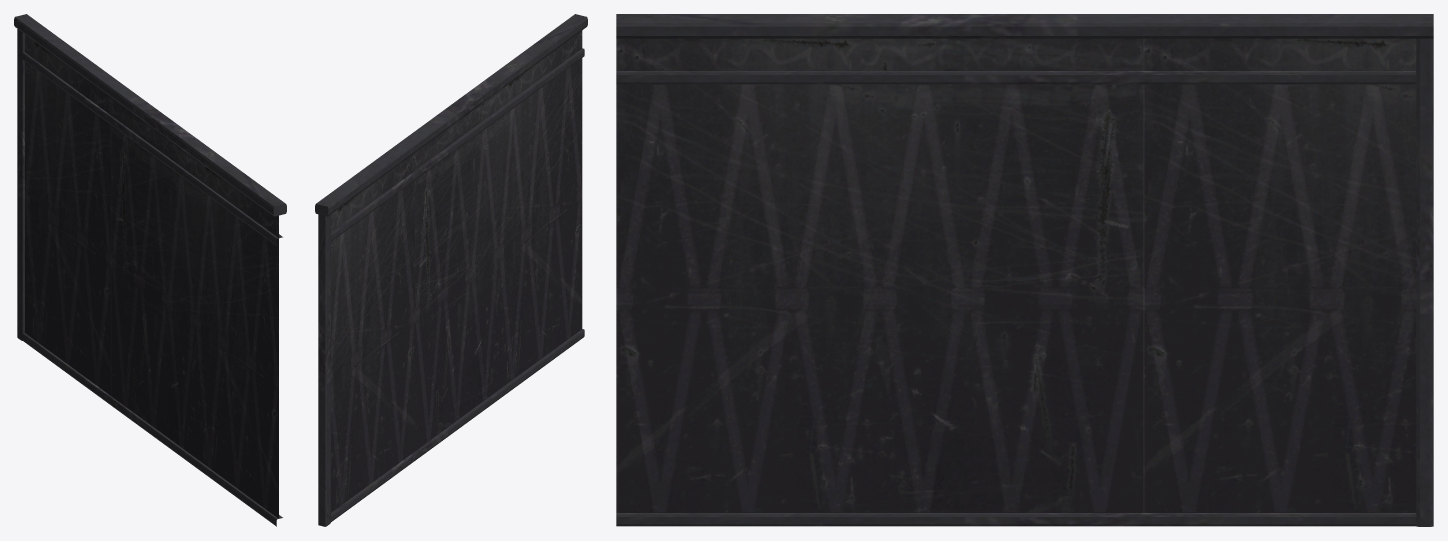
File: railing03_62.glb
The picture shows the model from 3 angles, left to right: view 1: azimuth 30°, elevation 25°; view 2: azimuth 150°, elevation 25°; view 3: azimuth 270°, elevation 25°; orthographic projection. The views are drawn at different scales.
Visible parts, largest first — view 1: railing03_62; view 2: railing03_62; view 3: railing03_62.
Boxes of the visible parts, <box> form: railing03_62: <box>14,14,286,526</box>; railing03_62: <box>315,14,587,526</box>; railing03_62: <box>616,14,1433,526</box>.
Bounding box in the file's own units: 0.0351 × 0.8059 × 1.18.
Materials: 1 (1 with a texture image).
